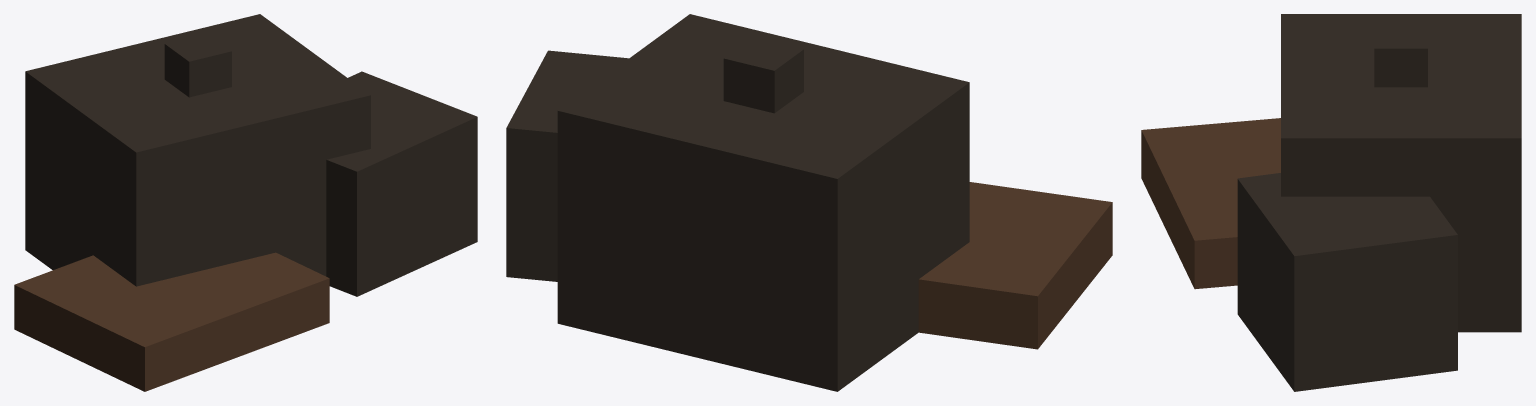
Rendered from PRP_H_Trash_Pile_A.obj.
3 renders of one model, left to right at view 1: azimuth 30°, elevation 25°; view 2: azimuth 150°, elevation 25°; view 3: azimuth 270°, elevation 25°, orthographic. The views are drawn at different scales.
Parts seen in each view (by area): view 1: bag_large, box_flat, bag_small, bag_knot; view 2: bag_large, box_flat, bag_small, bag_knot; view 3: bag_large, bag_small, box_flat, bag_knot.
Boxes of the visible parts, box(x1,y1,x2,y2) form: bag_large: box(25, 14, 370, 286); box_flat: box(14, 252, 329, 391); bag_small: box(326, 71, 477, 296); bag_knot: box(164, 33, 231, 97); bag_large: box(557, 14, 969, 391); box_flat: box(918, 182, 1112, 349); bag_small: box(506, 50, 628, 281); bag_knot: box(723, 37, 803, 113); bag_large: box(1281, 14, 1521, 332); bag_small: box(1237, 173, 1457, 391); box_flat: box(1141, 118, 1280, 289); bag_knot: box(1374, 26, 1427, 87).
Size of the model in its own units: 1.02 by 0.48 by 0.7107.
